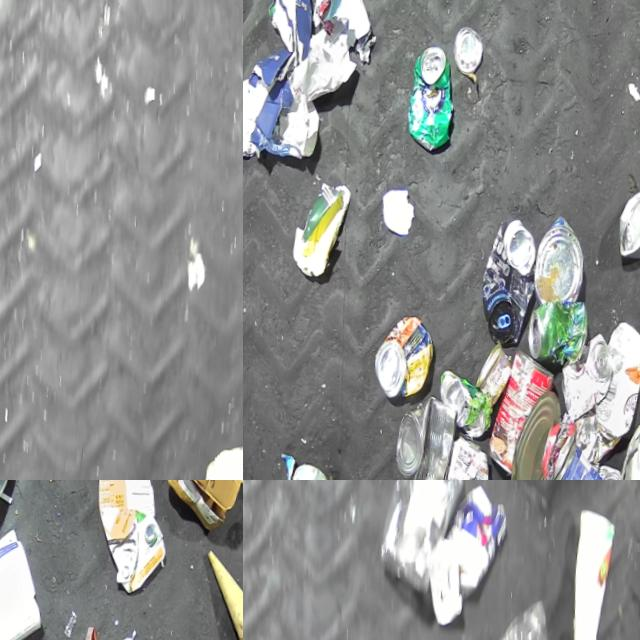can: (488, 344, 567, 475), (480, 214, 547, 344), (396, 391, 470, 480), (404, 41, 460, 150), (376, 312, 443, 398), (511, 388, 573, 480), (561, 329, 622, 420), (533, 212, 592, 301), (529, 296, 594, 364), (441, 365, 501, 438), (542, 435, 629, 480), (438, 431, 501, 480), (478, 341, 520, 405), (617, 178, 640, 255), (452, 23, 486, 73), (622, 417, 640, 480), (291, 463, 342, 480), (601, 460, 633, 480)
non_white_jug: (87, 480, 172, 593)
